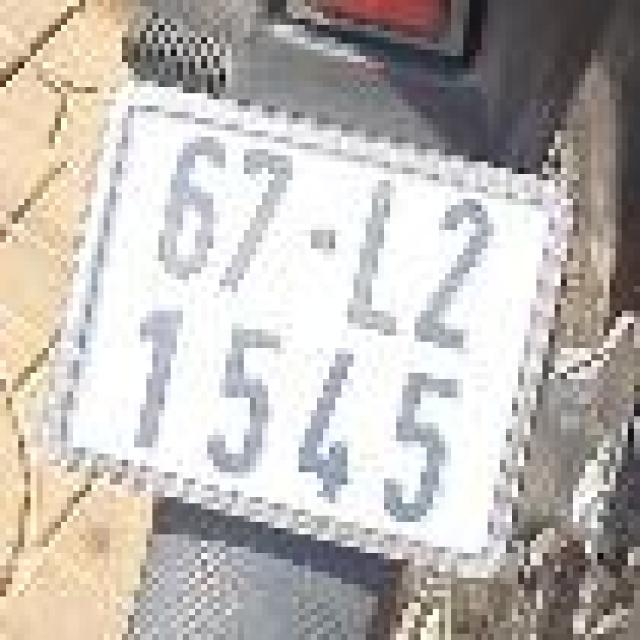1: (395, 180, 518, 369), (106, 294, 206, 472)
4: (274, 330, 387, 519)
5: (357, 354, 479, 549), (178, 312, 300, 504)
6: (141, 109, 253, 295)
7: (204, 133, 316, 318)
L: (334, 163, 434, 353)
